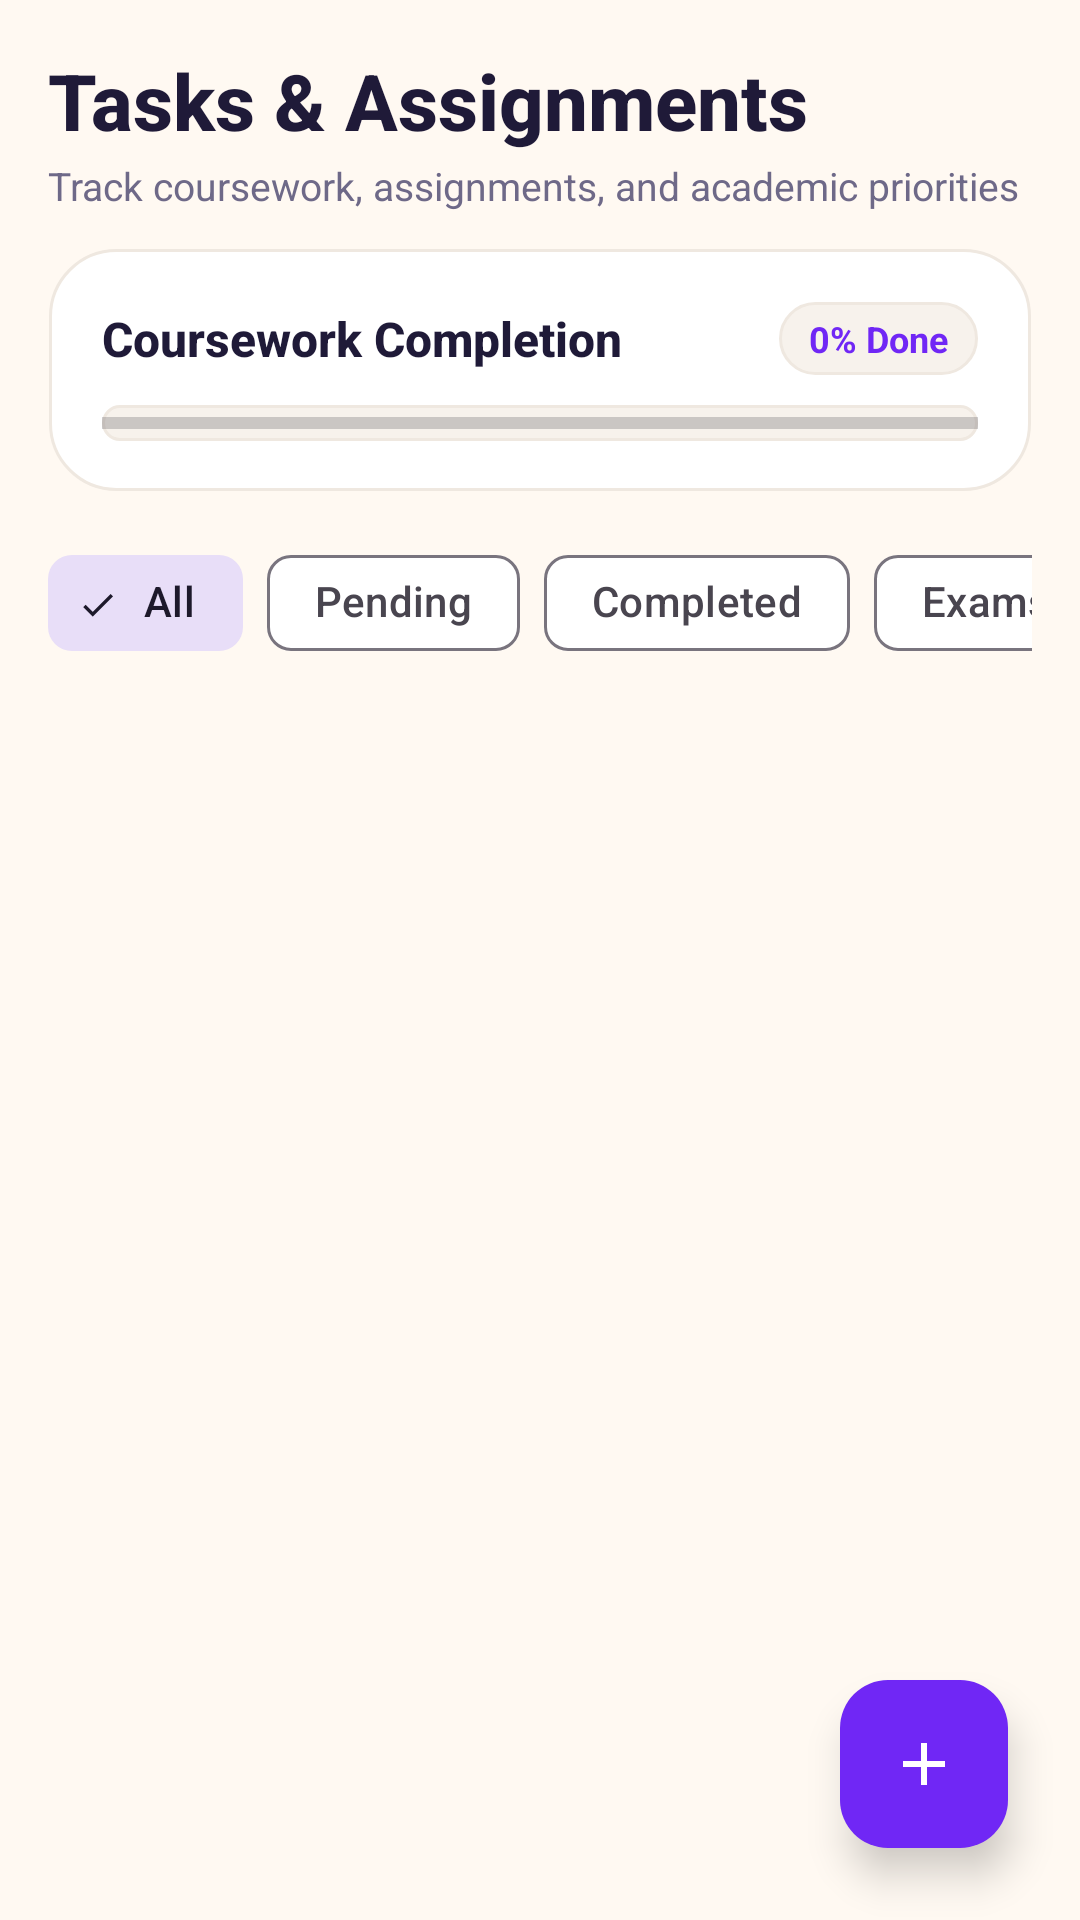

Icons on this 1080×1920 Android screen, each with the point to tap as (x=x, y=y):
New Task: (x=924, y=1764)
